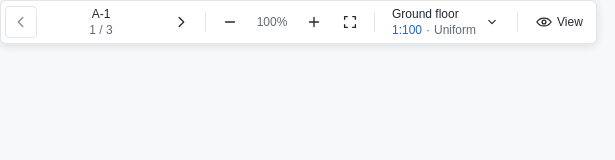
Scenario: ViewerDock › shows unambiguous active-scale identity and switches through a radio menu
This screenshot has width=615, height=160.
Click the button "Ground floor 1:100 · Uniform" at {"x": 446, "y": 22}, box [383,5,509,39]
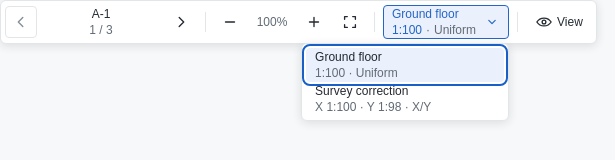
Result: the menu item "Survey correction X 1:100 · Y 1:98 · X/Y" is shown
Click the menu item "Survey correction X 1:100 · Y 1:98 · X/Y" at {"x": 405, "y": 99}, box [306,82,504,116]
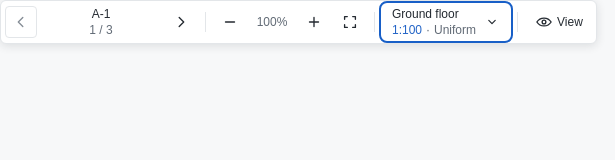
Result: the menu is gone
